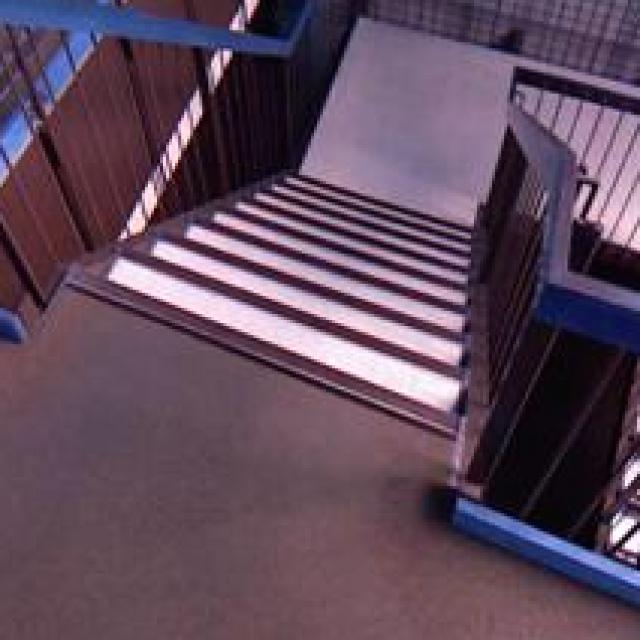downstair: (82, 179, 460, 418)
